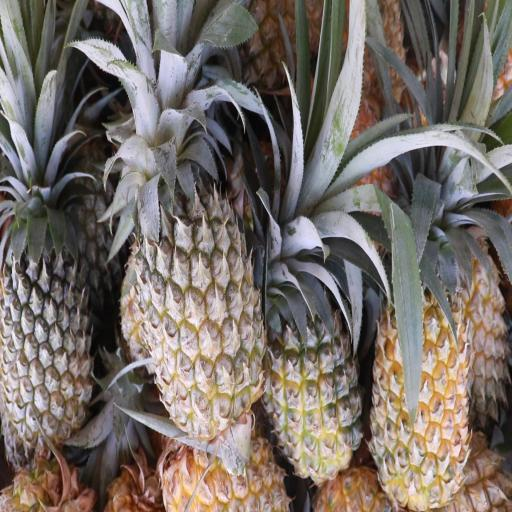------------------------------: (127, 122, 268, 463), (258, 260, 362, 492)
Pineapple - v8 v1: (367, 236, 474, 512)
